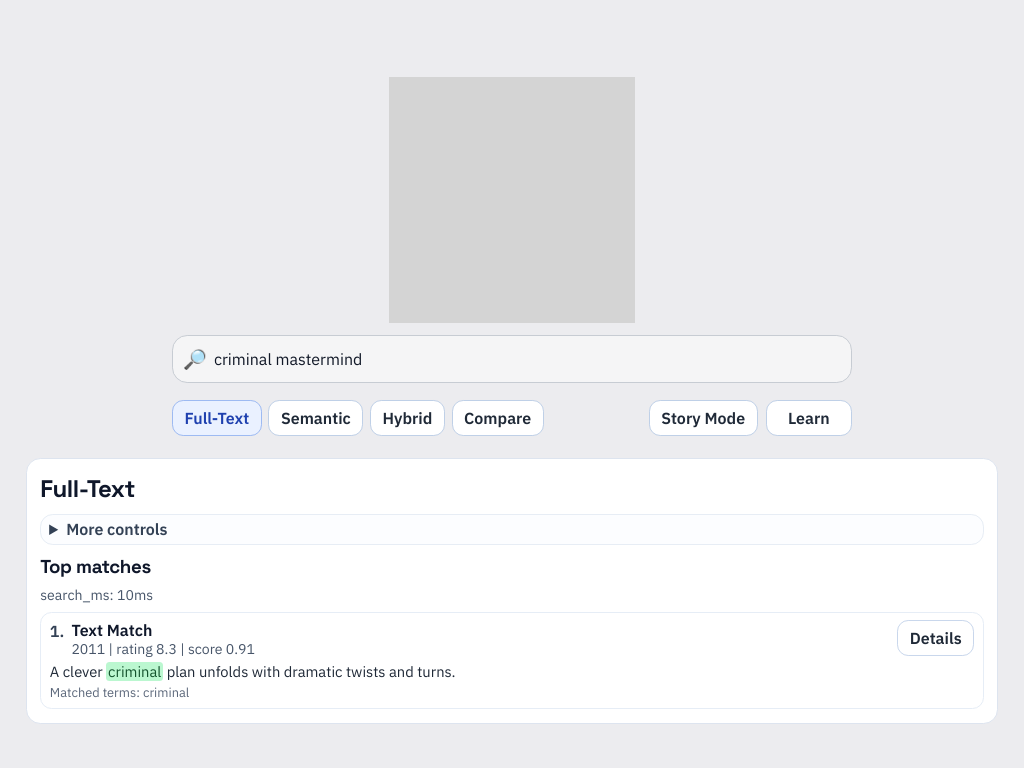
Scenario: App › renders compact results and supports row expand
Check: the text "Text Match" is shown, box [71,620,152,640]
What coordinates should you click on to do the following:
click the button "Details"
I would click on:
 (936, 638)
Its box is [897,620,974,656].
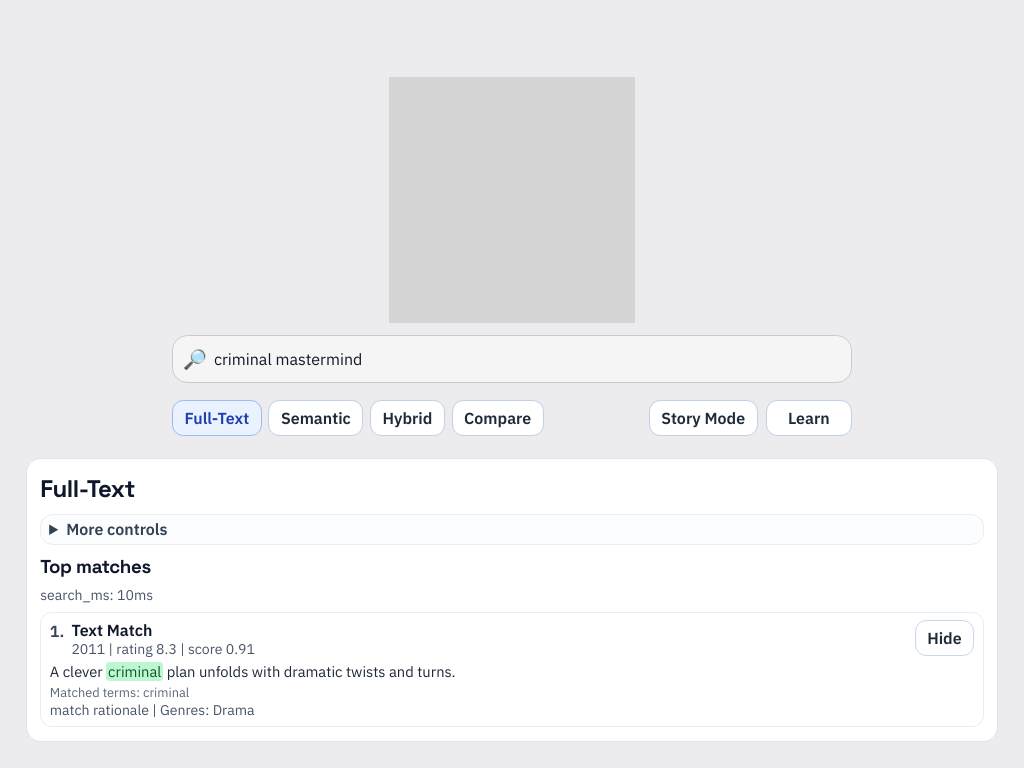
Check: the button "Hide" is shown, box [915,620,974,656]
